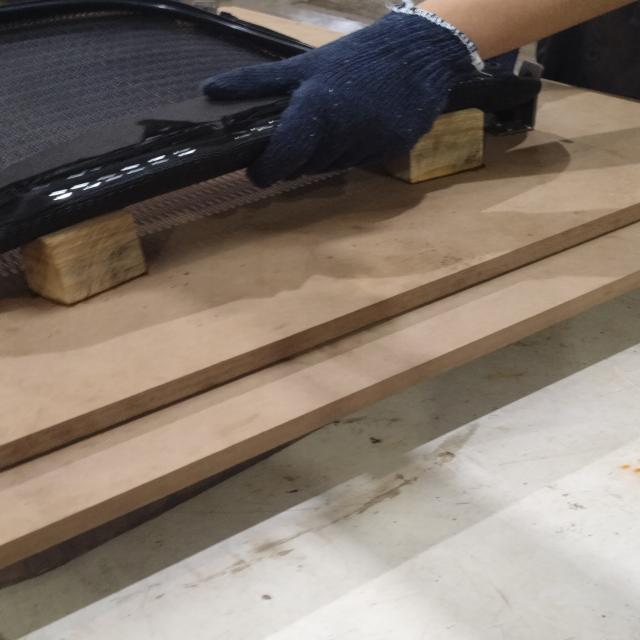Gloves-Detection: (212, 21, 466, 181)
